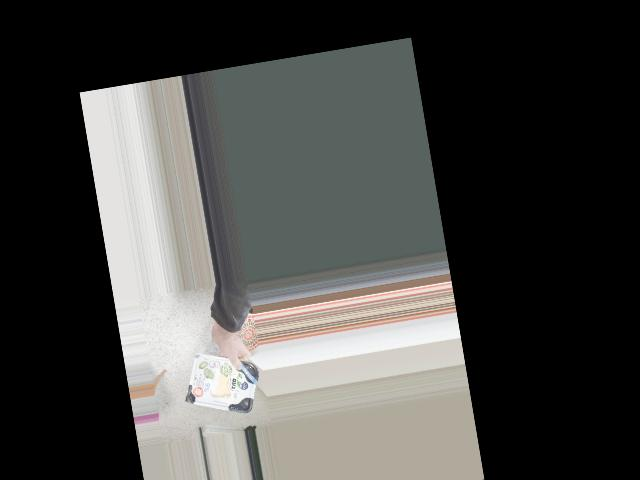cheese: (187, 352, 255, 413)
